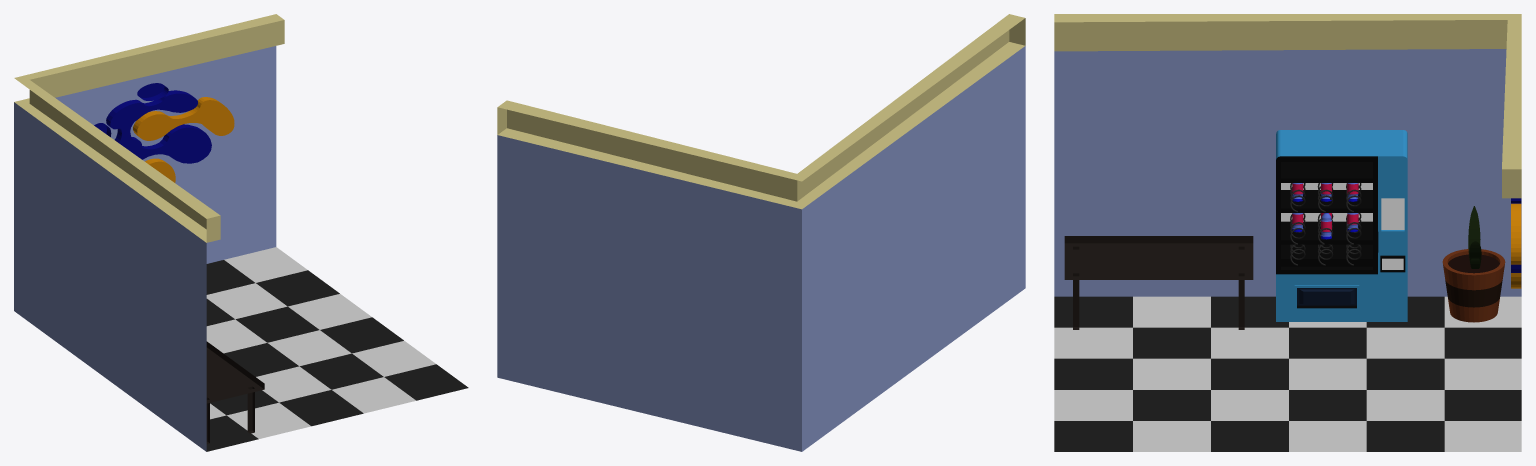
File: AnimatedObject0022.obj
3 renders of one model, left to right at view 1: azimuth 30°, elevation 25°; view 2: azimuth 150°, elevation 25°; view 3: azimuth 270°, elevation 25°, orthographic. The views are drawn at different scales.
Visible parts, largest first — view 1: ruangan_Cube.003, meja_Cube.004, logo_Circle.005, logo.001_Circle.001, logo.005_Circle.002; view 2: ruangan_Cube.003; view 3: ruangan_Cube.003, vending_machine_Cube.001, meja_Cube.004, pot_bunga_Cylinder, per_second\_Spiral.010, Plane.007, logo_Circle.005.
Boxes of the visible parts, bbox=[...] form: ruangan_Cube.003: bbox=[14, 14, 468, 451]; meja_Cube.004: bbox=[206, 341, 264, 444]; logo_Circle.005: bbox=[133, 97, 234, 140]; logo.001_Circle.001: bbox=[115, 124, 211, 163]; logo.005_Circle.002: bbox=[106, 90, 197, 132]; ruangan_Cube.003: bbox=[497, 14, 1025, 451]; ruangan_Cube.003: bbox=[1054, 14, 1521, 451]; vending_machine_Cube.001: bbox=[1276, 130, 1407, 321]; meja_Cube.004: bbox=[1064, 236, 1253, 329]; pot_bunga_Cylinder: bbox=[1442, 249, 1505, 322]; per_second\_Spiral.010: bbox=[1290, 183, 1361, 265]; Plane.007: bbox=[1468, 206, 1481, 268]; logo_Circle.005: bbox=[1511, 203, 1521, 264].
Bounding box in the file's own units: 11.73 × 9.95 × 14.9.
